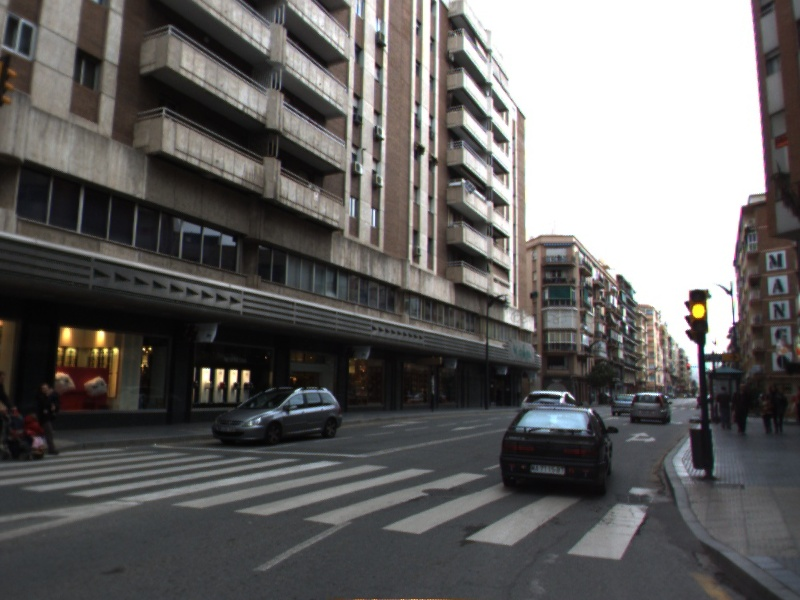STRAIGHT_RIGHT: (623, 430, 658, 445)
